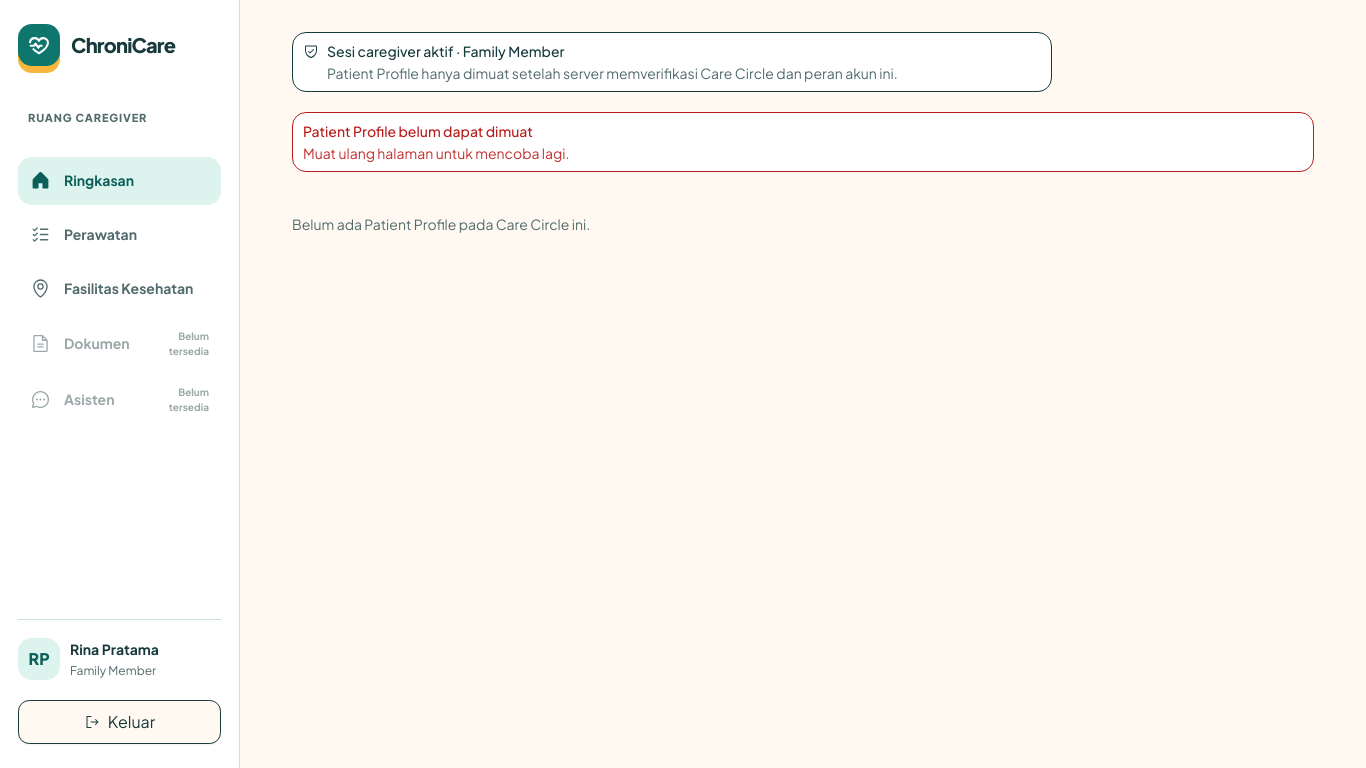
Test case: caregiver auth panel › keeps the verified context when Supabase logout fails
The image size is (1366, 768).
Expected: the text "Rina Pratama" is shown, x1=70 y1=638 x2=159 y2=660
Click the button "Keluar": (120, 722) x1=18 y1=700 x2=221 y2=744
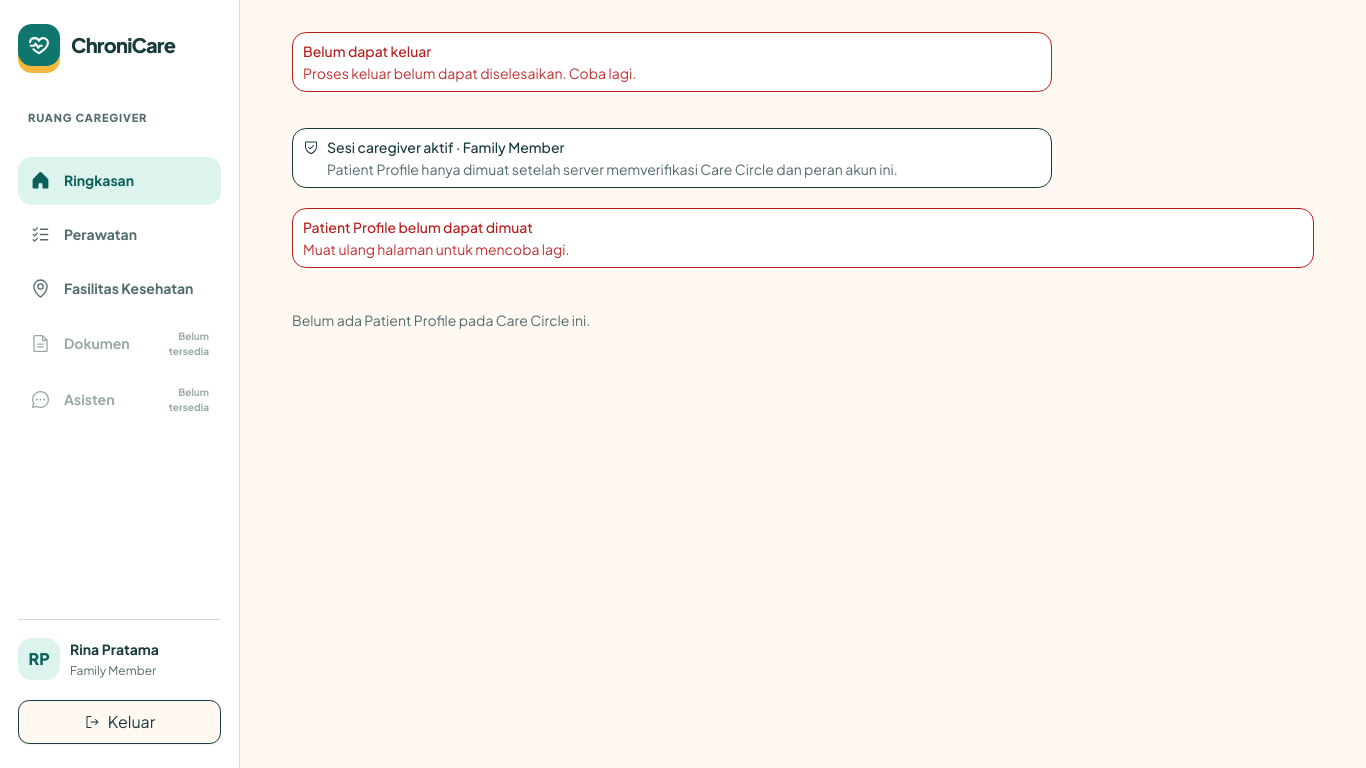
Expected: the text "Rina Pratama" is shown, x1=70 y1=638 x2=159 y2=660
Now the text "Proses keluar belum dapat diselesaikan. Coba lagi." is shown, box x1=303 y1=64 x2=636 y2=82
